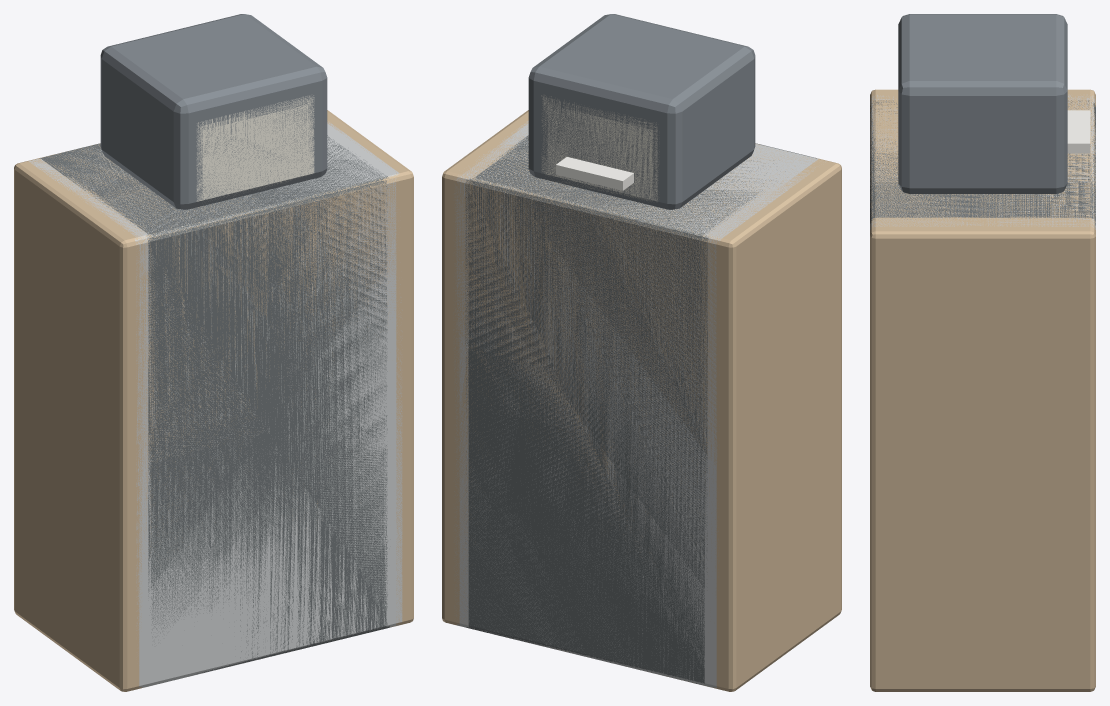
The model's file is Gear08.fbx.
3 renders of one model, left to right at view 1: azimuth 30°, elevation 25°; view 2: azimuth 150°, elevation 25°; view 3: azimuth 270°, elevation 25°, orthographic. The views are drawn at different scales.
Visible parts, largest first — view 1: Gear08_V2_Charcoal, Gear08_V10_Oak, Gear08_V1_Charcoal, Gear08_V5_BrushedSteel, Gear08_V10_Graphite, Gear08_V3_Charcoal, Gear08_V9_Oak, Gear08_V1_Ivory, Gear08_V6_BrushedSteel, Gear08_V8_Oak, Gear08_V7_BrushedSteel, Gear08_V5_Ivory (+7 smaller); view 2: Gear08_V2_Charcoal, Gear08_V10_Oak, Gear08_V6_BrushedSteel, Gear08_V10_Graphite, Gear08_V3_Charcoal, Gear08_V1_Charcoal, Gear08_V9_Oak, Gear08_V5_BrushedSteel, Gear08_V8_Oak, Gear08_V4_BrushedSteel, Gear08_V1_Ivory, Gear08_V7_BrushedSteel (+4 smaller); view 3: Gear08_V10_Oak, Gear08_V10_Graphite, Gear08_V1_Charcoal, Gear08_V7_BrushedSteel, Gear08_V10_Paper, Gear08_V5_BrushedSteel.
Part boxes in pixels (bbox=[...]): Gear08_V2_Charcoal: bbox=[54, 135, 387, 669]; Gear08_V10_Oak: bbox=[14, 110, 413, 691]; Gear08_V1_Charcoal: bbox=[58, 154, 384, 674]; Gear08_V5_BrushedSteel: bbox=[41, 160, 396, 687]; Gear08_V10_Graphite: bbox=[100, 14, 327, 209]; Gear08_V3_Charcoal: bbox=[40, 143, 389, 652]; Gear08_V9_Oak: bbox=[21, 117, 408, 690]; Gear08_V1_Ivory: bbox=[202, 104, 308, 201]; Gear08_V6_BrushedSteel: bbox=[32, 123, 398, 687]; Gear08_V8_Oak: bbox=[25, 119, 405, 690]; Gear08_V7_BrushedSteel: bbox=[29, 121, 402, 630]; Gear08_V5_Ivory: bbox=[196, 95, 314, 201]; Gear08_V2_Charcoal: bbox=[468, 135, 765, 683]; Gear08_V10_Oak: bbox=[442, 110, 841, 691]; Gear08_V6_BrushedSteel: bbox=[456, 123, 793, 687]; Gear08_V10_Graphite: bbox=[528, 14, 755, 209]; Gear08_V3_Charcoal: bbox=[465, 143, 816, 649]; Gear08_V1_Charcoal: bbox=[471, 138, 767, 684]; Gear08_V9_Oak: bbox=[447, 143, 833, 690]; Gear08_V5_BrushedSteel: bbox=[459, 128, 783, 687]; Gear08_V8_Oak: bbox=[450, 118, 827, 690]; Gear08_V4_BrushedSteel: bbox=[462, 143, 818, 686]; Gear08_V1_Ivory: bbox=[547, 106, 653, 200]; Gear08_V7_BrushedSteel: bbox=[453, 121, 825, 614]; Gear08_V10_Oak: bbox=[870, 89, 1095, 691]; Gear08_V10_Graphite: bbox=[898, 14, 1067, 193]; Gear08_V1_Charcoal: bbox=[870, 105, 1095, 220]; Gear08_V7_BrushedSteel: bbox=[870, 94, 1095, 229]; Gear08_V10_Paper: bbox=[1067, 110, 1090, 147]; Gear08_V5_BrushedSteel: bbox=[870, 97, 1095, 224].
Size of the model in its own units: 61.25 by 112 by 40.
